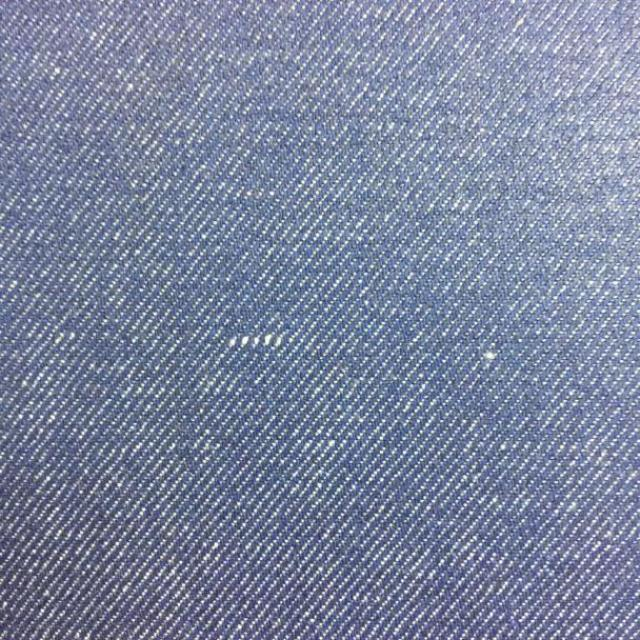Knot: (227, 334, 283, 348)
